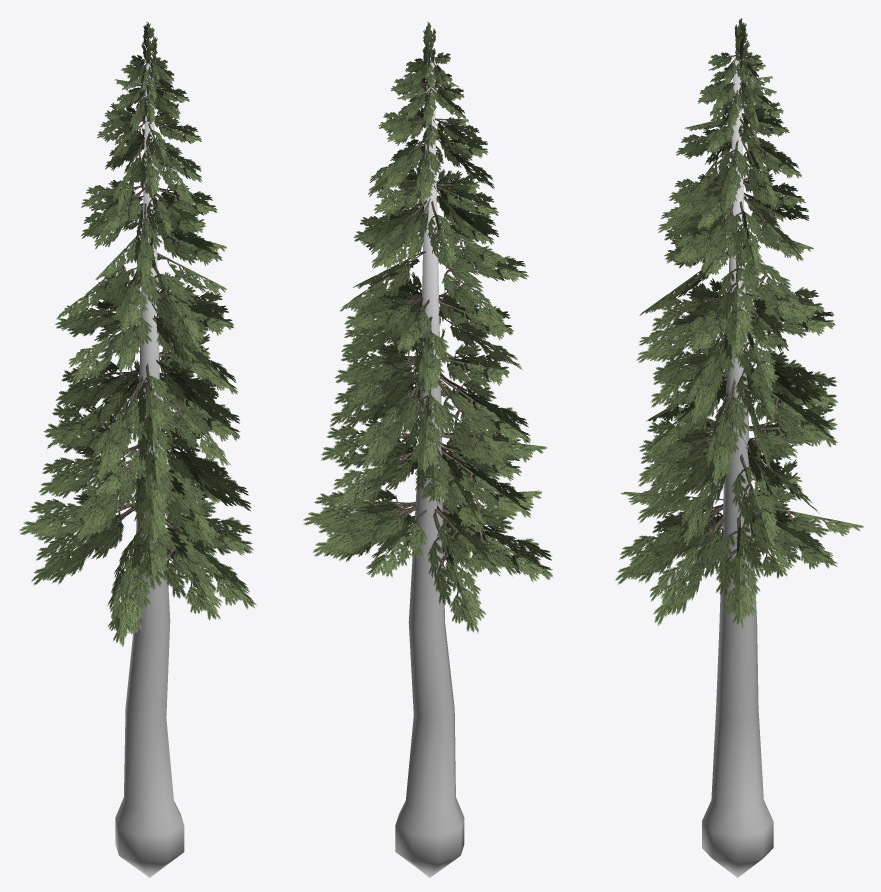
Rendered from Pine_04.fbx.
3 views of the same model, side by side, from view 1: azimuth 30°, elevation 25°; view 2: azimuth 150°, elevation 25°; view 3: azimuth 270°, elevation 25° (orthographic).
Visible parts, largest first — view 1: polySurface1; view 2: polySurface1; view 3: polySurface1.
Part boxes in pixels (box(x1,y1,x2,y2)): polySurface1: box(19, 22, 257, 877); polySurface1: box(303, 22, 552, 877); polySurface1: box(615, 18, 863, 877).
Size of the model in its own units: 4.28 by 15.29 by 4.27.
